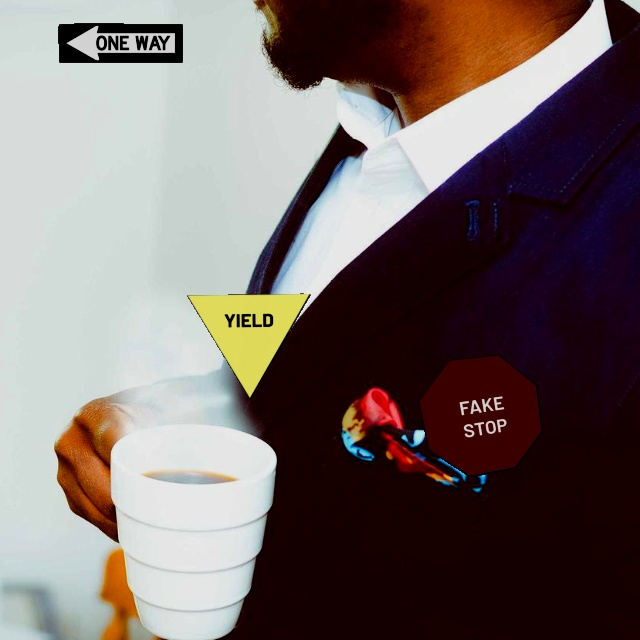FAKE_STOP: (418, 354, 543, 477)
ONE_WAY_ left: (58, 23, 183, 63)
YIELD: (186, 293, 311, 400)
